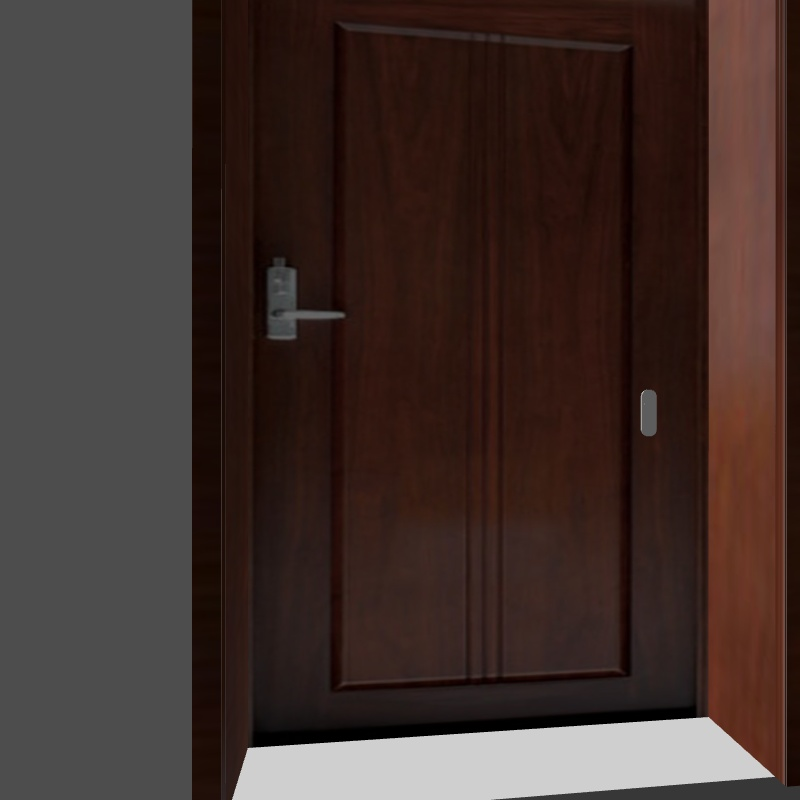handle: (249, 256, 348, 345)
